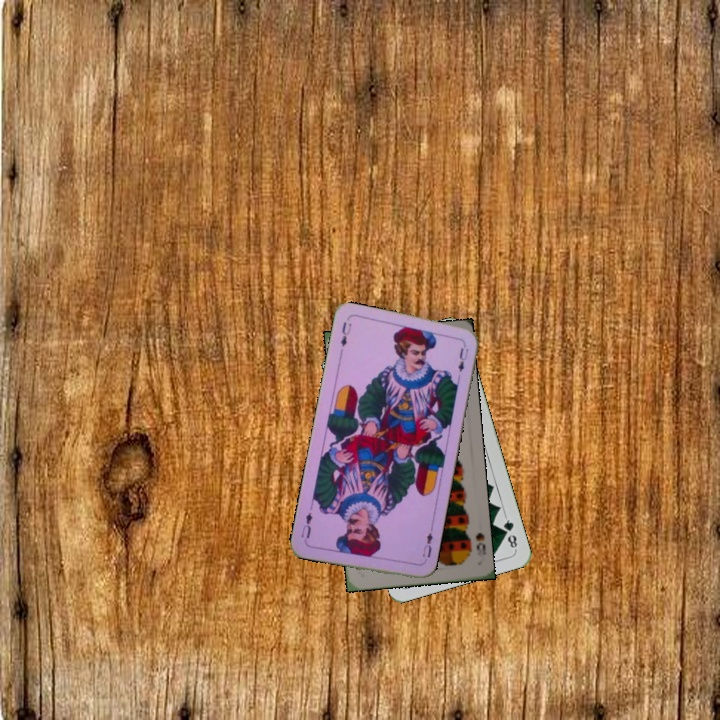EU: (418, 525, 435, 565), (336, 318, 354, 350)
G8: (499, 513, 520, 552)
S8: (471, 528, 488, 563)
